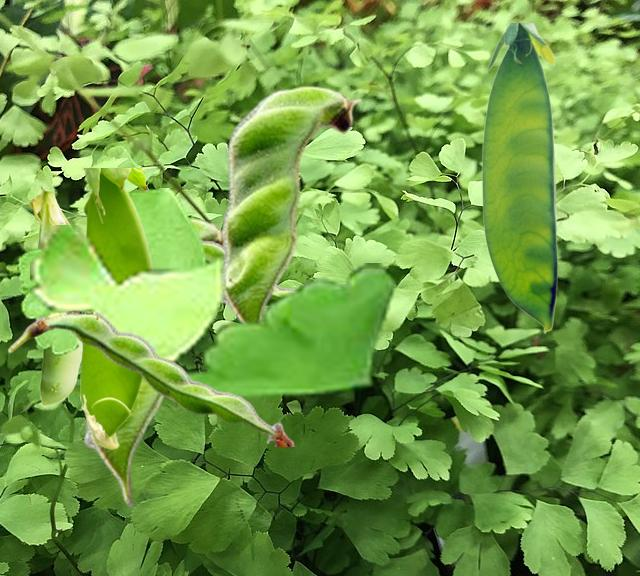pea: (82, 216, 221, 507), (8, 310, 294, 445), (217, 85, 362, 318), (481, 23, 556, 332), (80, 168, 152, 448), (28, 184, 80, 406), (201, 236, 294, 299)
